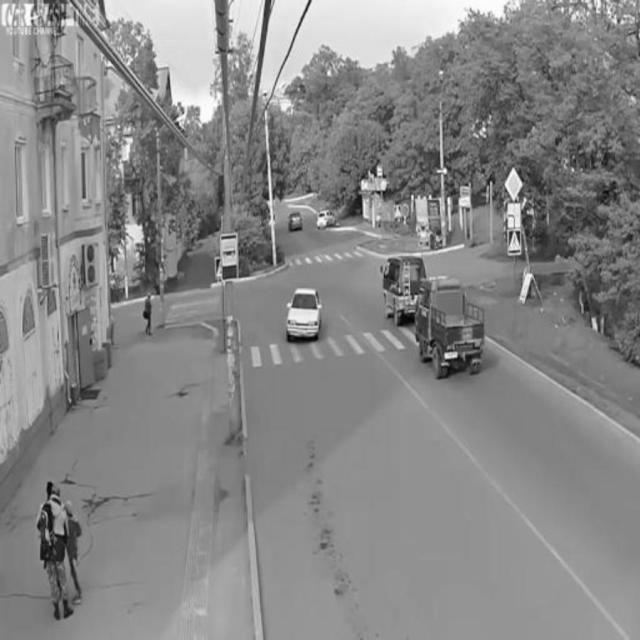person: (39, 475, 73, 619), (142, 285, 156, 339)
vehicle: (414, 275, 486, 381), (379, 249, 421, 333), (285, 286, 322, 344), (315, 206, 335, 232), (287, 208, 305, 234)
